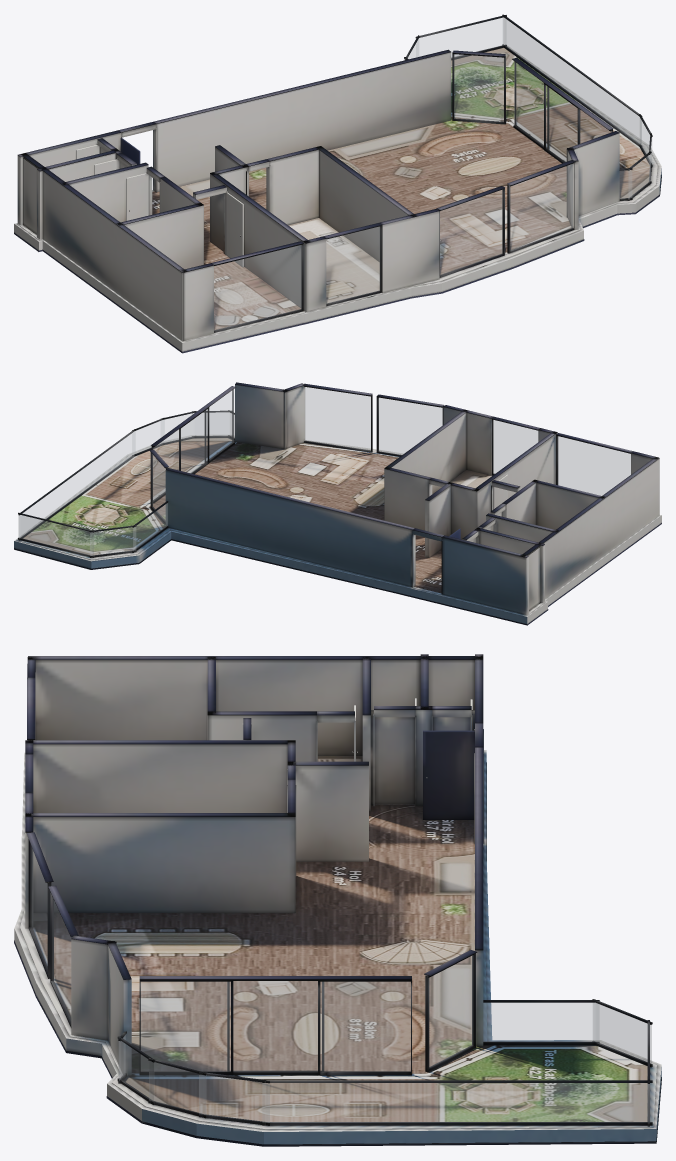
The picture shows the model from 3 angles, top to bottom: view 1: azimuth 30°, elevation 25°; view 2: azimuth 150°, elevation 25°; view 3: azimuth 270°, elevation 25°; orthographic projection. The views are drawn at different scales.
Parts seen in each view (by area): view 1: plan, glass0_m, glass4_m, glass2_m, glass3_m, railg1_m, glass1_m, glass5_m, railg0_m, railg5_m; view 2: plan, glass4_m, glass3_m, glass0_m, glass2_m, railg1_m, railg0_m, glass1_m, railg7_m, railg2_m, glass5_m, railg3_m (+2 smaller); view 3: plan, glass4_m, railg1_m, railg2_m, glass5_m, railg3_m, railg4_m, railg7_m, glass3_m, glass2_m, railg5_m.
Boxes of the visible parts, x1,y1,x2,y2 form: plan: [14, 14, 661, 353]; glass0_m: [214, 245, 301, 330]; glass4_m: [514, 61, 611, 161]; glass2_m: [440, 190, 502, 275]; glass3_m: [510, 164, 572, 250]; railg1_m: [503, 18, 641, 145]; glass1_m: [326, 227, 380, 303]; glass5_m: [454, 54, 503, 121]; railg0_m: [416, 17, 505, 57]; railg5_m: [628, 154, 650, 198]; plan: [14, 382, 661, 625]; glass4_m: [153, 389, 233, 500]; glass3_m: [305, 387, 370, 450]; glass0_m: [558, 436, 630, 495]; glass2_m: [378, 398, 442, 454]; railg1_m: [19, 431, 134, 538]; railg0_m: [18, 515, 93, 555]; glass1_m: [493, 420, 537, 473]; railg7_m: [90, 527, 135, 555]; railg2_m: [133, 503, 167, 550]; glass5_m: [152, 454, 165, 519]; railg3_m: [133, 420, 163, 454]; plan: [14, 654, 661, 1146]; glass4_m: [141, 981, 410, 1071]; railg1_m: [262, 1083, 652, 1122]; railg2_m: [483, 1003, 598, 1041]; glass5_m: [429, 955, 472, 1067]; railg3_m: [199, 1075, 269, 1122]; railg4_m: [149, 1061, 205, 1114]; railg7_m: [593, 1003, 651, 1064]; glass3_m: [52, 897, 71, 1020]; glass2_m: [31, 846, 47, 968]; railg5_m: [118, 1041, 153, 1101].
Bounding box in the file's own units: 19.22 × 2.62 × 13.76.
Materials: 2 (1 with a texture image).
